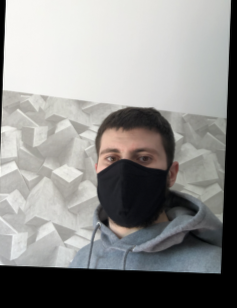with_mask: (96, 138, 168, 230)
